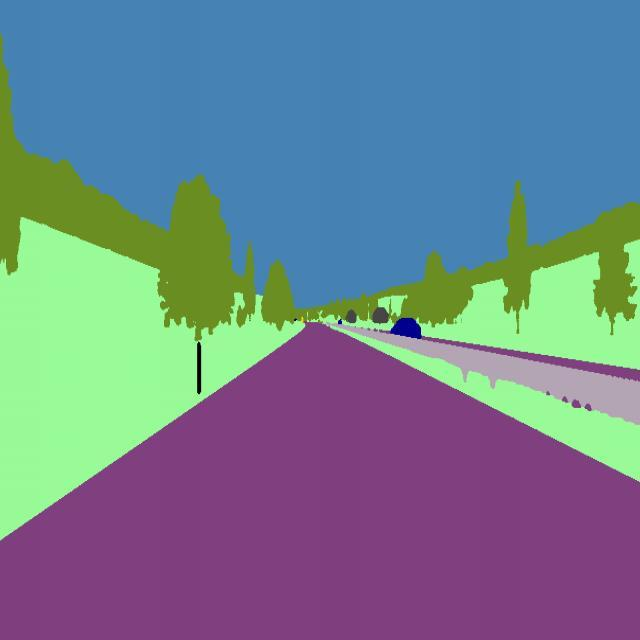safe: (386, 312, 426, 341)
